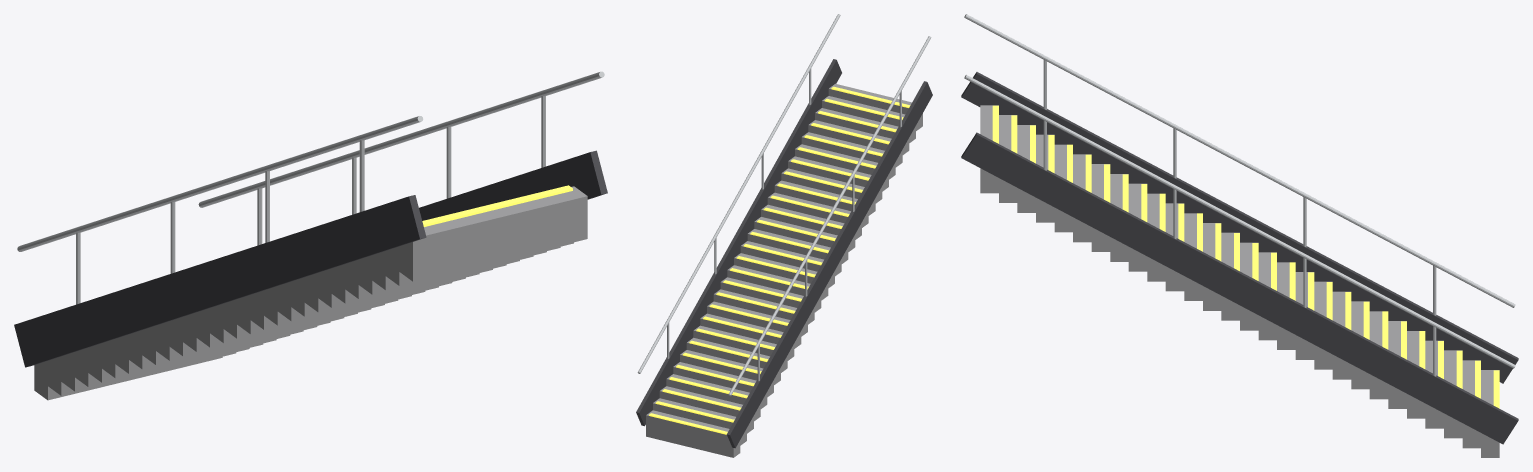
File: stairs_extra.gltf
3 views of the same model, side by side, from view 1: azimuth 30°, elevation 25°; view 2: azimuth 150°, elevation 25°; view 3: azimuth 270°, elevation 25° (orthographic). The views are drawn at different scales.
Visible parts, largest first — view 1: Stringer-1, Step0, Stringer1, Handrail-1, Handrail1, Nosing0, Step9, Step3, Step5, Step1, Step7, Step6 (+21 smaller); view 2: Stringer-1, Stringer1, Step27, Handrail-1, Handrail1, Step25, Step26, Step24, Step3, Step18, Step2, Step19 (+23 smaller); view 3: Stringer1, Stringer-1, Handrail-1, Handrail1, Step8, Step19, Step21, Step26, Step0, Step5, Step20, Step25 (+20 smaller).
Boxes of the visible parts, <box> form: Stringer-1: <box>14,195,426,367</box>; Step0: <box>399,186,587,281</box>; Stringer1: <box>419,150,607,220</box>; Handrail-1: <box>17,116,423,251</box>; Handrail1: <box>198,71,604,207</box>; Nosing0: <box>422,185,572,226</box>; Step9: <box>277,277,465,321</box>; Step3: <box>358,251,546,294</box>; Step5: <box>331,260,519,303</box>; Step1: <box>385,242,573,285</box>; Step7: <box>304,269,492,312</box>; Step6: <box>318,264,506,307</box>; Stringer-1: <box>727,81,932,448</box>; Stringer1: <box>636,59,841,426</box>; Step27: <box>646,410,740,457</box>; Handrail-1: <box>728,36,931,396</box>; Handrail1: <box>637,14,840,373</box>; Step25: <box>659,386,753,433</box>; Step26: <box>653,398,746,445</box>; Step24: <box>666,374,760,421</box>; Step3: <box>808,120,902,167</box>; Step18: <box>707,301,801,348</box>; Step2: <box>815,108,909,154</box>; Step19: <box>700,313,794,360</box>; Stringer1: <box>961,132,1518,444</box>; Stringer-1: <box>961,72,1518,383</box>; Handrail-1: <box>964,14,1515,307</box>; Handrail1: <box>964,75,1515,368</box>; Step8: <box>1128,183,1147,271</box>; Step19: <box>1332,291,1351,379</box>; Step21: <box>1369,311,1388,399</box>; Step26: <box>1462,360,1480,448</box>; Step0: <box>980,105,998,193</box>; Step5: <box>1073,154,1091,242</box>; Step20: <box>1351,301,1369,389</box>; Step25: <box>1444,350,1462,438</box>.
Size of the model in its own units: 1.72 by 4.9 by 6.44.
